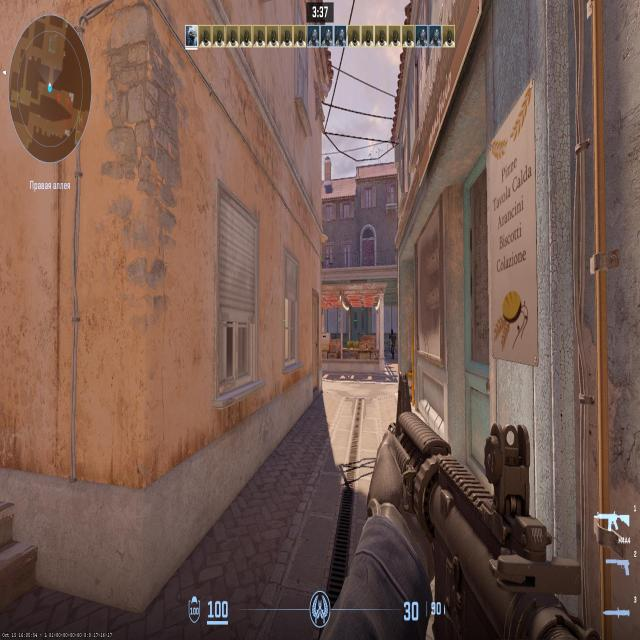CT: (390, 329, 396, 359)
CT_heat: (390, 330, 393, 335)
